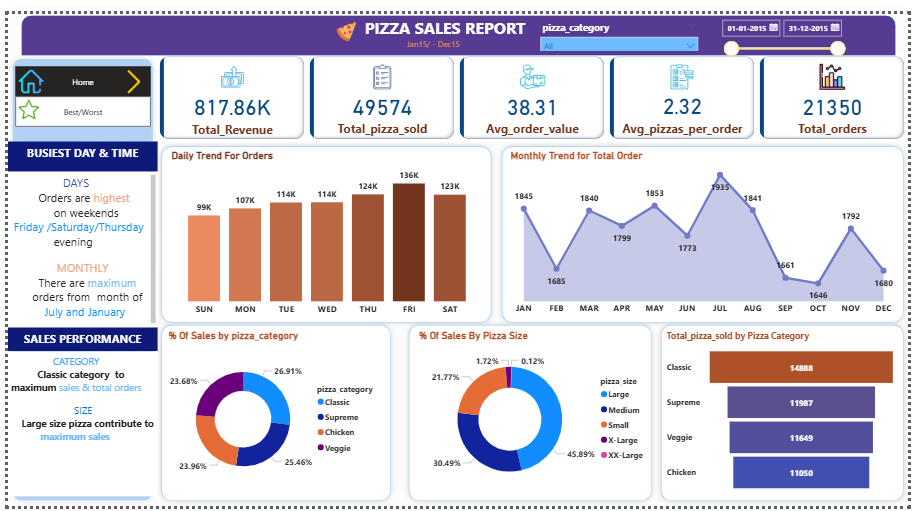

The page's visual inventory and layout, read from the dashboard file:
{"tool":"powerbi","page":{"name":"Home","canvas":[1500,820],"ordinal":0},"visuals":[{"type":"cardVisual","fields":{"Data":["Pizza_sales.Total_Revenue","Pizza_sales.Total_pizza_sold","Pizza_sales.Avg_order_value","Pizza_sales.Avg_pizzas_per_order","Pizza_sales.Total_orders"]},"box":[248.4,64.5,1251.6,148.4],"z":0},{"type":"textbox","box":[121,366.1,279,56.5],"z":3001},{"type":"shape","box":[23.5,2,1456.9,66.7],"z":3002},{"type":"textbox","box":[580.6,0,296.8,64.5],"z":3003},{"type":"textbox","box":[659.7,35.5,103.2,32.3],"z":3004},{"type":"image","box":[532.3,8.1,62.9,43.5],"z":3005},{"type":"shape","box":[248.4,211.3,566.1,309.7],"z":3006},{"type":"columnChart","title":"Daily Trend For Orders","fields":{"Category":["Pizza_sales.order day"],"Y":["Sum(Pizza_sales.total_price)"]},"box":[267.3,225,528.8,286.5],"z":3007},{"type":"shape","box":[814.5,211.3,685.5,309.7],"z":3008},{"type":"areaChart","title":"Monthly Trend for Total Order","fields":{"Category":["Pizza_sales.order Month"],"Y":["Pizza_sales.Total_orders"]},"box":[832.3,224.2,653.2,285.5],"z":3009},{"type":"shape","box":[659.7,509.7,421,309.7],"z":3010},{"type":"shape","box":[248.4,509.7,398.4,309.7],"z":3011},{"type":"shape","box":[1079,509.7,421,309.7],"z":3012},{"type":"donutChart","title":"% Of Sales by pizza_category","fields":{"Category":["Pizza_sales.pizza_category"],"Y":["Pizza_sales.Total_Revenue"]},"box":[261.3,524.2,372.6,280.6],"z":3013},{"type":"donutChart","title":"% Of Sales By Pizza Size","fields":{"Category":["Pizza_sales.pizza_size"],"Y":["Pizza_sales.Total_Revenue"]},"box":[679,524.2,395.2,280.6],"z":3014},{"type":"funnel","title":"Total_pizza_sold by Pizza Category","fields":{"Category":["Pizza_sales.pizza_category"],"Y":["Pizza_sales.Total_pizza_sold"]},"box":[1093.5,524.2,391.9,280.6],"z":3015},{"type":"shape","box":[0,68.6,249,751],"z":3016},{"type":"textbox","box":[0,211.8,249,51],"z":3017},{"type":"textbox","box":[0,262.7,251,262.7],"z":3018},{"type":"textbox","box":[0,523.5,249,39.2],"z":3019},{"type":"textbox","box":[0,562.7,249,241.2],"z":3020},{"type":"slicer","fields":{"Values":["Pizza_sales.pizza_category"]},"box":[876.5,5.9,282.4,56.9],"z":3021},{"type":"slicer","fields":{"Values":["Pizza_sales.order_date"]},"box":[1176.9,0,226.9,88.5],"z":3022},{"type":"pageNavigator","box":[13.5,88.5,225,50],"z":3023},{"type":"pageNavigator","box":[13.5,138.5,225,50],"z":3024},{"type":"image","box":[178.8,88.5,59.6,50],"z":3025},{"type":"image","box":[13.5,130.8,44.2,57.7],"z":3026},{"type":"image","box":[13.5,82.7,51.9,59.6],"z":3027}]}

Visuals, with their boxes in screenshot pixels (x1, y1, x2, y2), scaled from the page's 1500x820 canvas onto the 912x511 screenshot:
cardVisual - Pizza_sales.Total_Revenue x Pizza_sales.Total_pizza_sold: x1=151, y1=40, x2=911, y2=133
textbox: x1=74, y1=228, x2=243, y2=263
shape: x1=14, y1=1, x2=900, y2=43
textbox: x1=353, y1=0, x2=533, y2=40
textbox: x1=401, y1=22, x2=464, y2=42
image: x1=324, y1=5, x2=362, y2=32
shape: x1=151, y1=132, x2=495, y2=325
"Daily Trend For Orders" columnChart: x1=163, y1=140, x2=484, y2=319
shape: x1=495, y1=132, x2=911, y2=325
"Monthly Trend for Total Order" areaChart: x1=506, y1=140, x2=903, y2=318
shape: x1=401, y1=318, x2=657, y2=510
shape: x1=151, y1=318, x2=393, y2=510
shape: x1=656, y1=318, x2=911, y2=510
"% Of Sales by pizza_category" donutChart: x1=159, y1=327, x2=385, y2=502
"% Of Sales By Pizza Size" donutChart: x1=413, y1=327, x2=653, y2=502
"Total_pizza_sold by Pizza Category" funnel: x1=665, y1=327, x2=903, y2=502
shape: x1=0, y1=43, x2=151, y2=510
textbox: x1=0, y1=132, x2=151, y2=164
textbox: x1=0, y1=164, x2=153, y2=327
textbox: x1=0, y1=326, x2=151, y2=351
textbox: x1=0, y1=351, x2=151, y2=501
slicer - Pizza_sales.pizza_category: x1=533, y1=4, x2=705, y2=39
slicer - Pizza_sales.order_date: x1=716, y1=0, x2=854, y2=55
pageNavigator: x1=8, y1=55, x2=145, y2=86
pageNavigator: x1=8, y1=86, x2=145, y2=117
image: x1=109, y1=55, x2=145, y2=86
image: x1=8, y1=82, x2=35, y2=117
image: x1=8, y1=52, x2=40, y2=89
